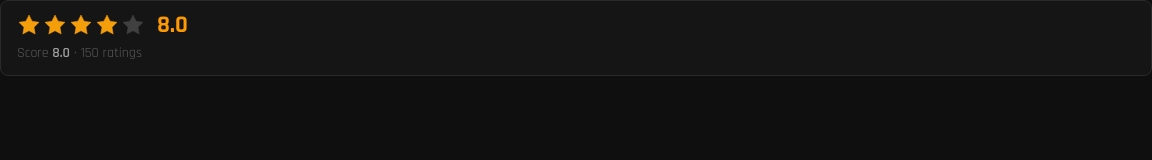
Test: StarRating › submits rating when authenticated user clicks a star
This screenshot has width=1152, height=160.
Click the button named "Rate 4 stars". click: {"x": 107, "y": 25}
box: [95,13,119,37]
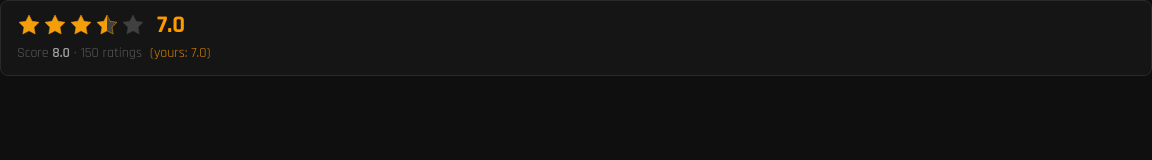
Expected: the text "(yours: 7.0)" is shown, [150,44,210,62]
